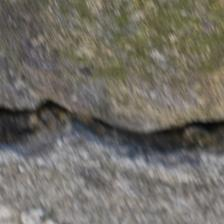Crack: (3, 47, 215, 116)
